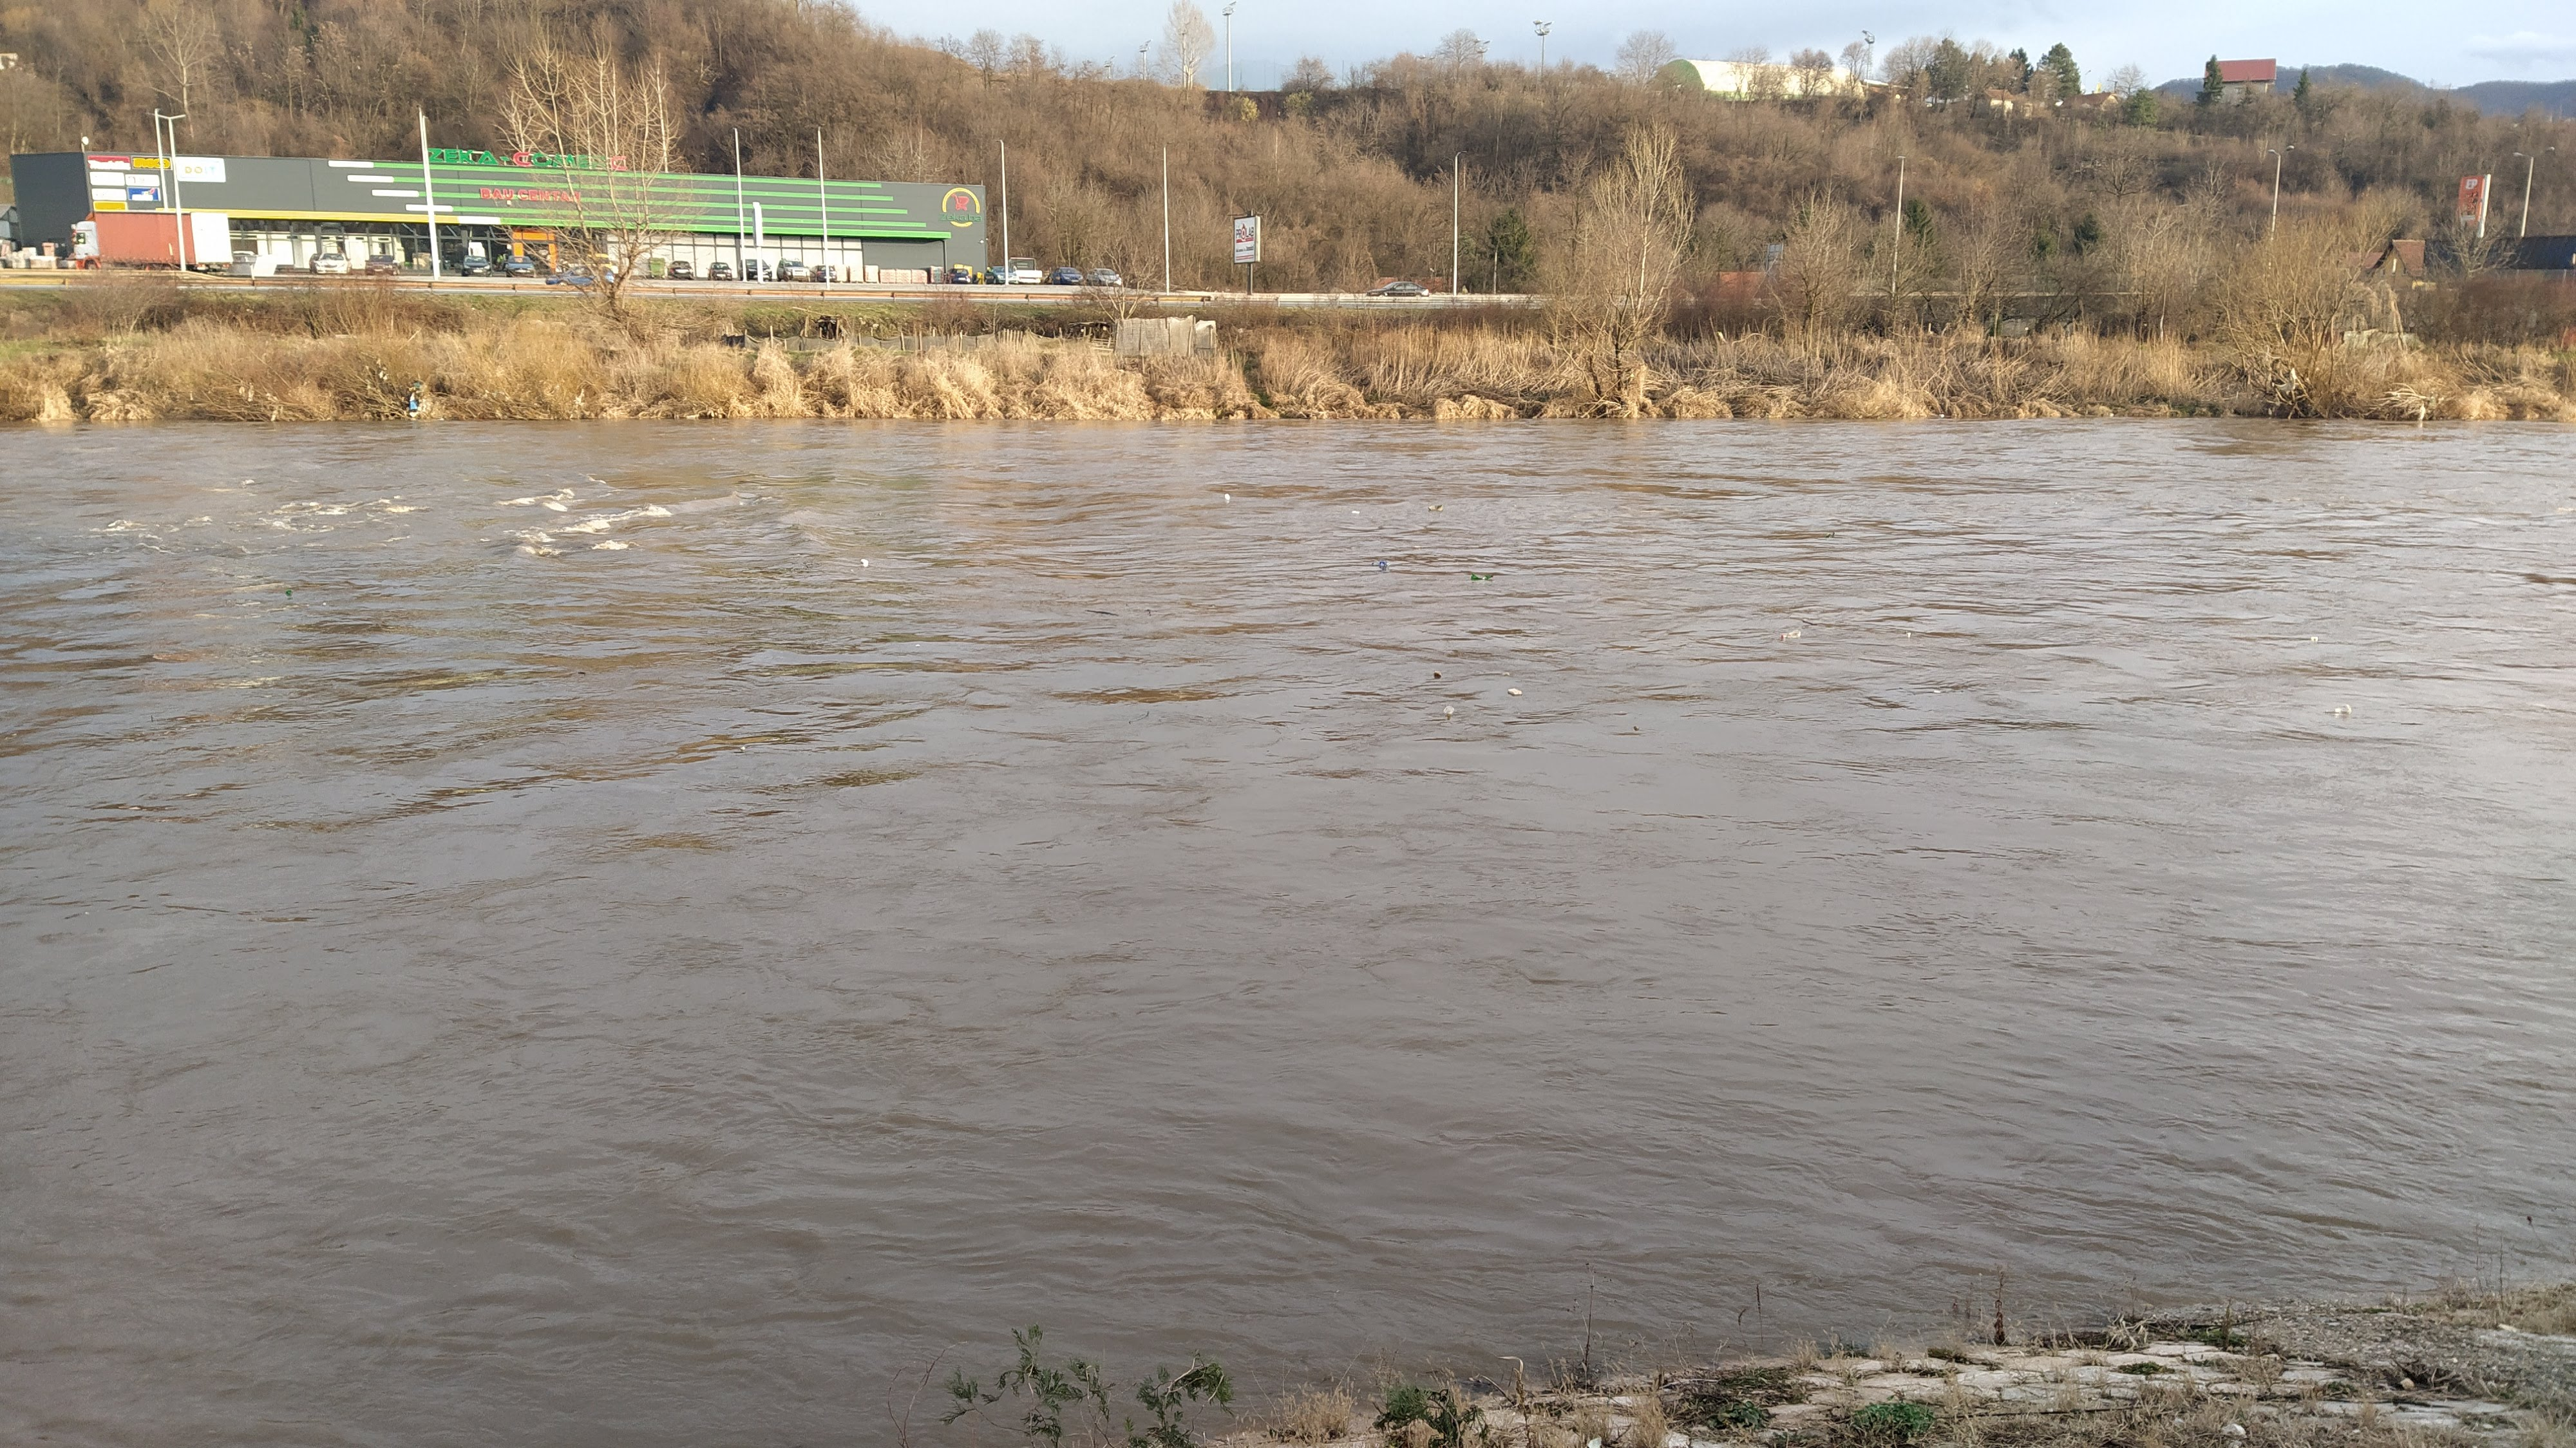Plastic Bottle: (2325, 705, 2351, 713), (1780, 630, 1799, 637), (1472, 574, 1493, 579), (1509, 687, 1522, 696), (1444, 705, 1454, 713), (1428, 504, 1444, 510), (860, 558, 869, 565), (1378, 561, 1387, 566), (1224, 492, 1230, 499), (2311, 637, 2319, 641), (287, 589, 292, 595), (1435, 671, 1440, 676), (1352, 510, 1359, 513), (1831, 531, 1835, 536), (1826, 533, 1829, 536), (1939, 414, 1943, 416)
